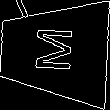M_W: (31, 27, 77, 76)
